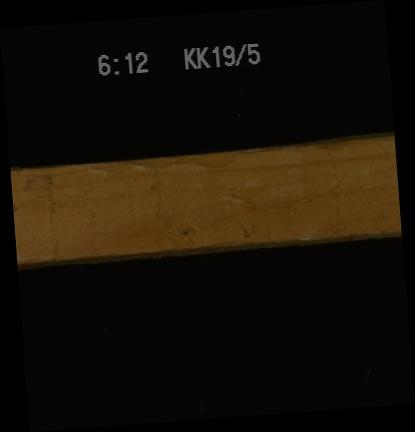small_knot: (176, 223, 193, 240)
wave: (80, 155, 244, 178)
